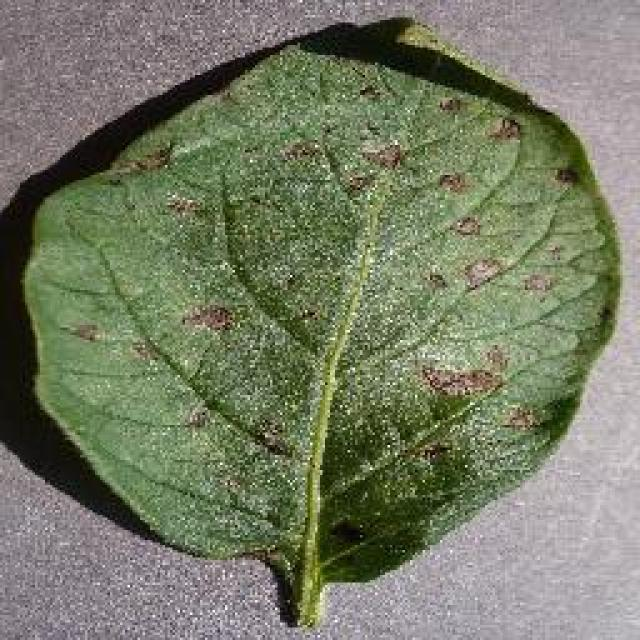early_blight: (13, 12, 625, 630)
